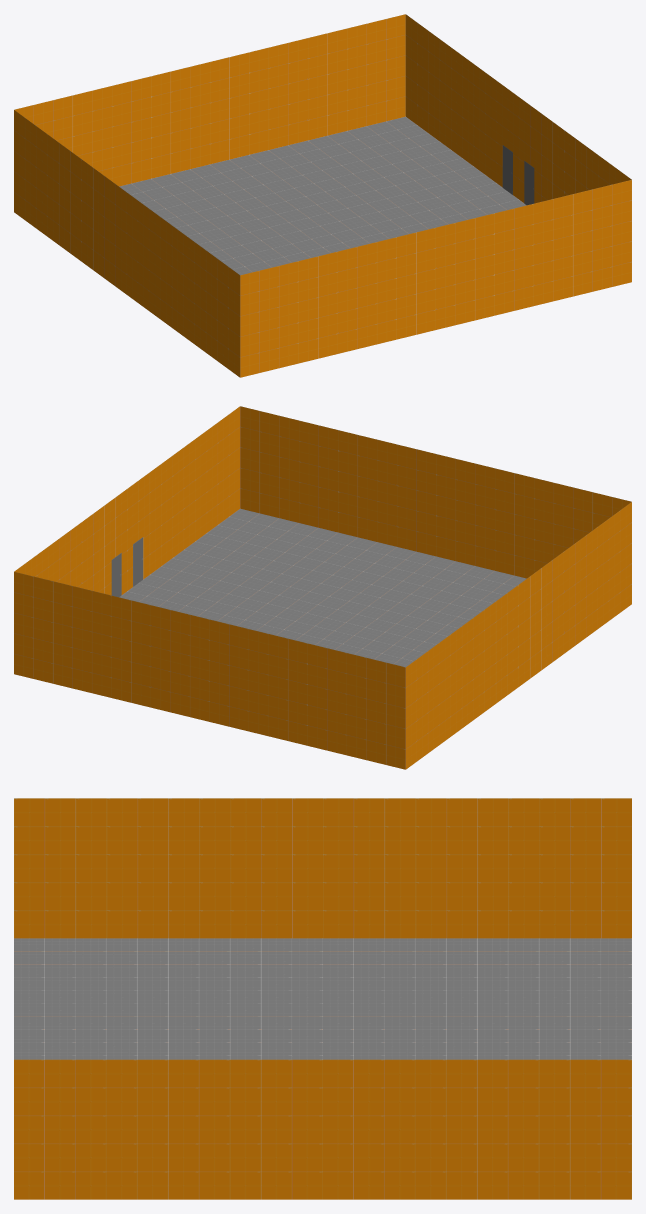
File: testroom.fbx
3 renders of one model, top to bottom at view 1: azimuth 30°, elevation 25°; view 2: azimuth 150°, elevation 25°; view 3: azimuth 270°, elevation 25°, orthographic. The views are drawn at different scales.
Visible parts, largest first — view 1: Cube; view 2: Cube; view 3: Cube.
Part boxes in pixels (bbox=[...]): Cube: bbox=[14, 14, 631, 377]; Cube: bbox=[14, 406, 631, 769]; Cube: bbox=[14, 798, 631, 1199].
Size of the model in its own units: 2000 by 500 by 2000.
1 material, 1 textured.
